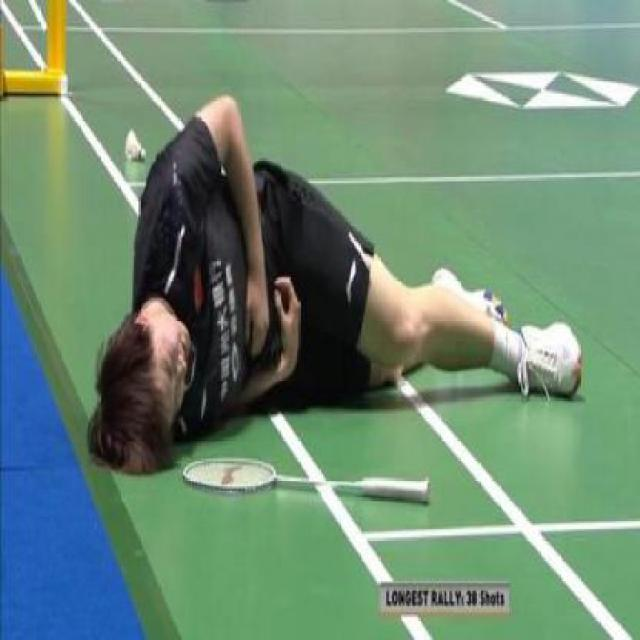fall: (87, 85, 571, 470)
